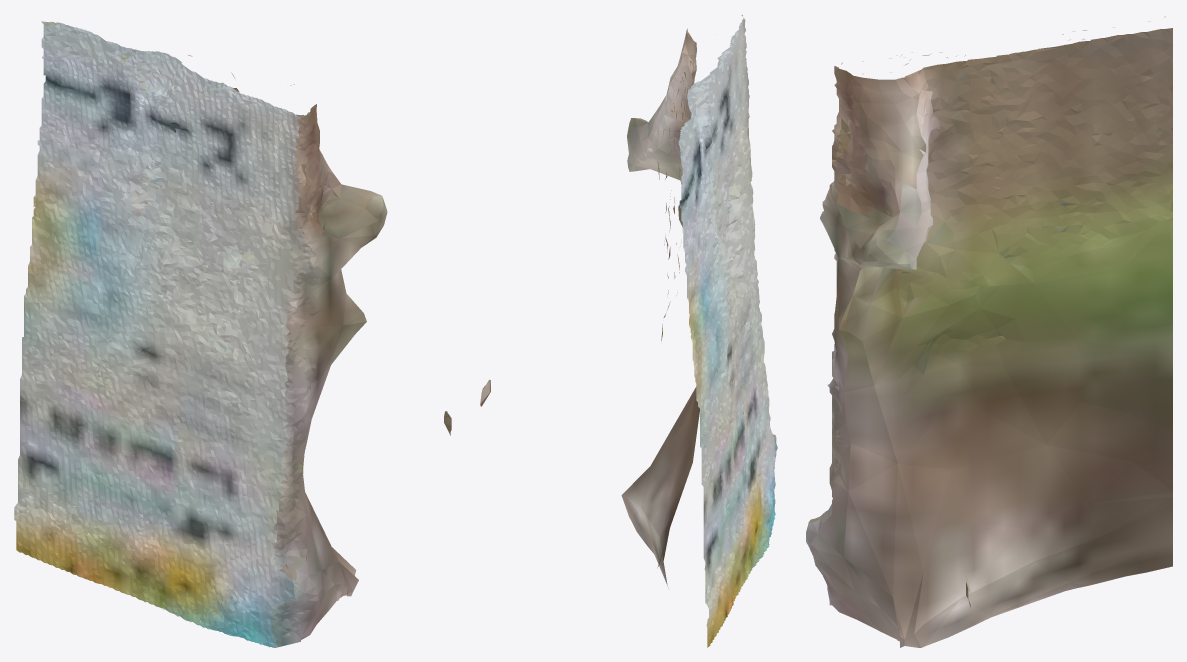
3 views of the same model, side by side, from view 1: azimuth 30°, elevation 25°; view 2: azimuth 150°, elevation 25°; view 3: azimuth 270°, elevation 25° (orthographic). The views are drawn at different scales.
Size of the model in its own units: 0.3334 by 0.4915 by 0.3007.
Materials: 1 (1 with a texture image).
